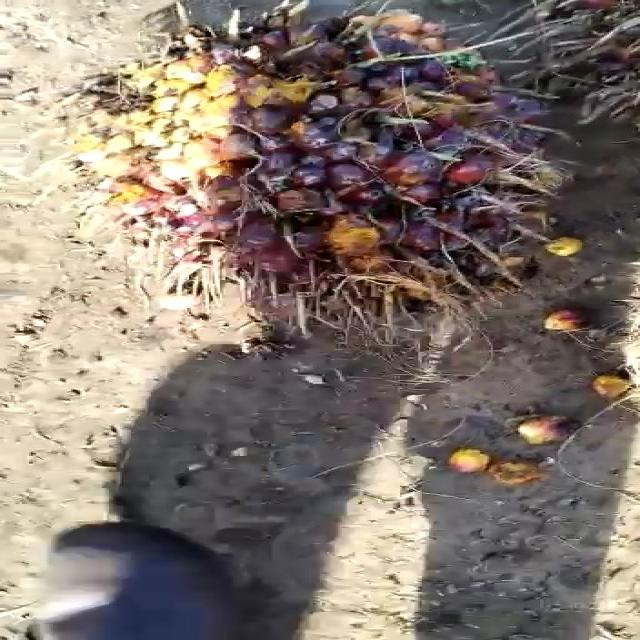palm oil: (92, 13, 583, 356)
